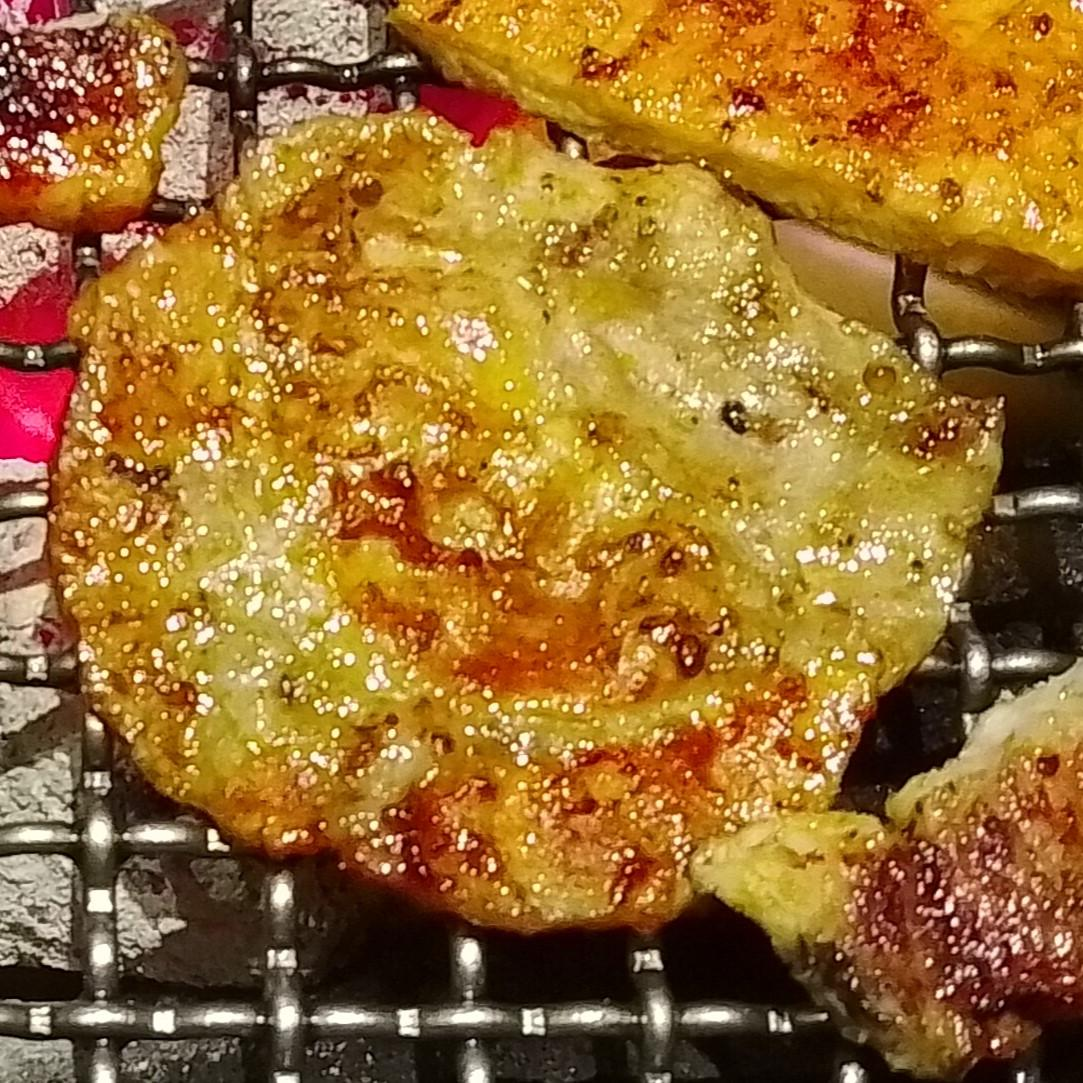Well-Cooked: (52, 112, 1002, 932)
